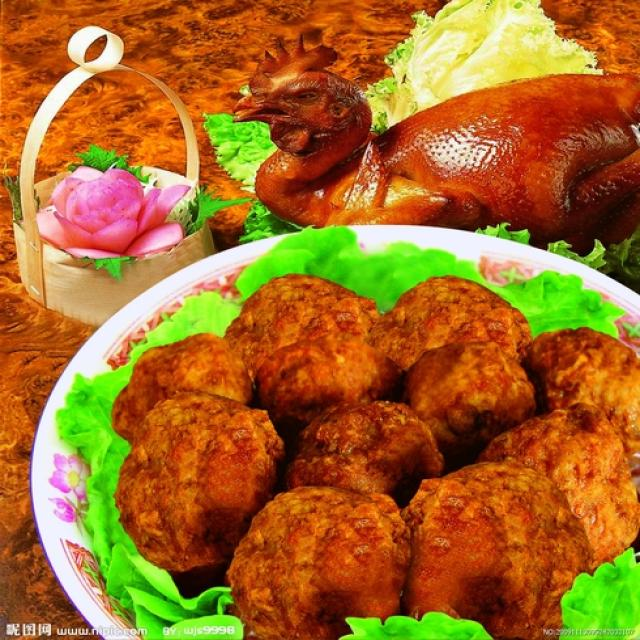猪肉菜式: (83, 272, 631, 621)
